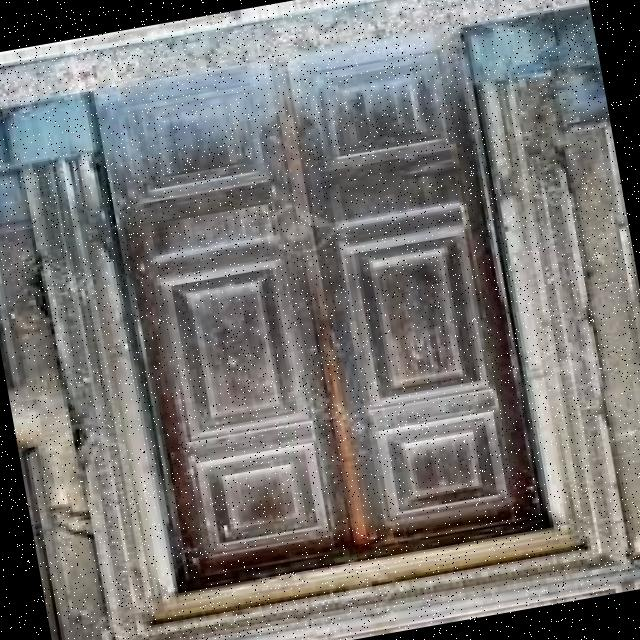Door: (28, 26, 612, 640)
